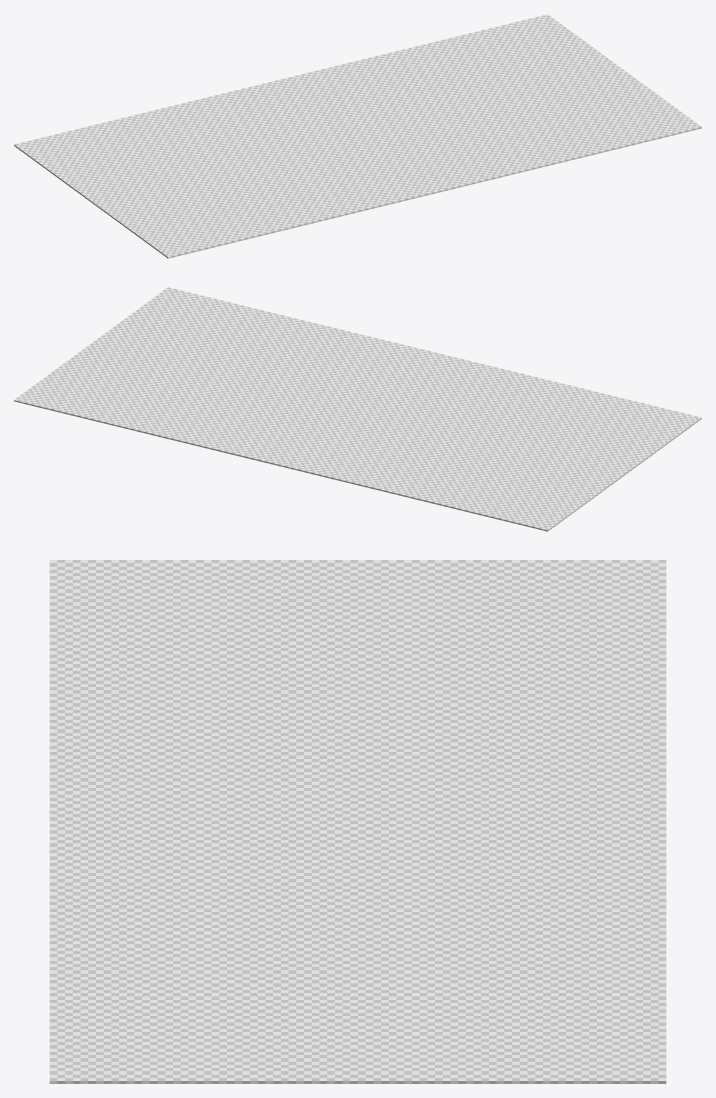
Rendered from floortiled20x40.model.obj.
The picture shows the model from 3 angles, top to bottom: view 1: azimuth 30°, elevation 25°; view 2: azimuth 150°, elevation 25°; view 3: azimuth 270°, elevation 25°; orthographic projection. The views are drawn at different scales.
Size of the model in its own units: 40 by 0.1 by 20.
Materials: 1 (1 with a texture image).
